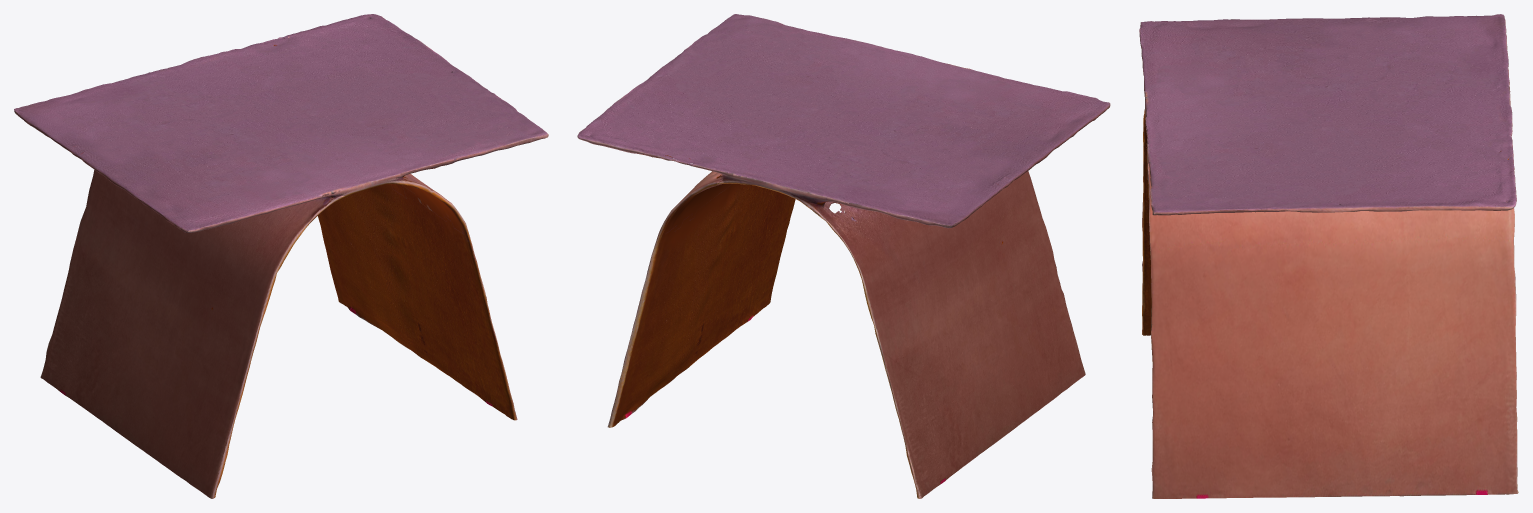
File: Fendi-KuengCaputo_RomanMolds_2019_5.glb
The picture shows the model from 3 angles, left to right: view 1: azimuth 30°, elevation 25°; view 2: azimuth 150°, elevation 25°; view 3: azimuth 270°, elevation 25°; orthographic projection. The views are drawn at different scales.
Visible parts, largest first — view 1: Retopo_Textured_mesh_1.002; view 2: Retopo_Textured_mesh_1.002; view 3: Retopo_Textured_mesh_1.002.
Boxes of the visible parts, <box> form: Retopo_Textured_mesh_1.002: <box>14,14,548,498</box>; Retopo_Textured_mesh_1.002: <box>577,14,1110,498</box>; Retopo_Textured_mesh_1.002: <box>1139,14,1518,498</box>.
Size of the model in its own units: 6.76 by 4.85 by 5.42.
1 material, 1 textured.
